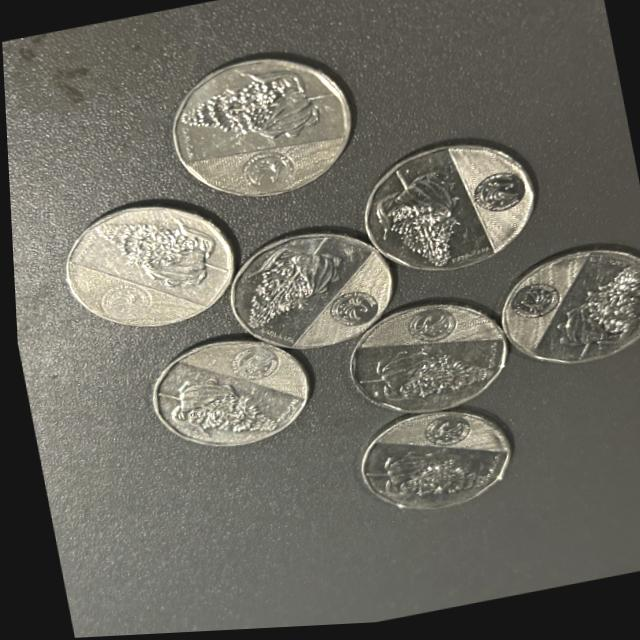10_New_Back: (62, 201, 231, 349), (175, 63, 338, 200), (347, 407, 502, 521), (238, 237, 384, 354), (383, 156, 526, 271), (345, 306, 497, 412), (154, 344, 299, 448), (506, 265, 640, 364)
